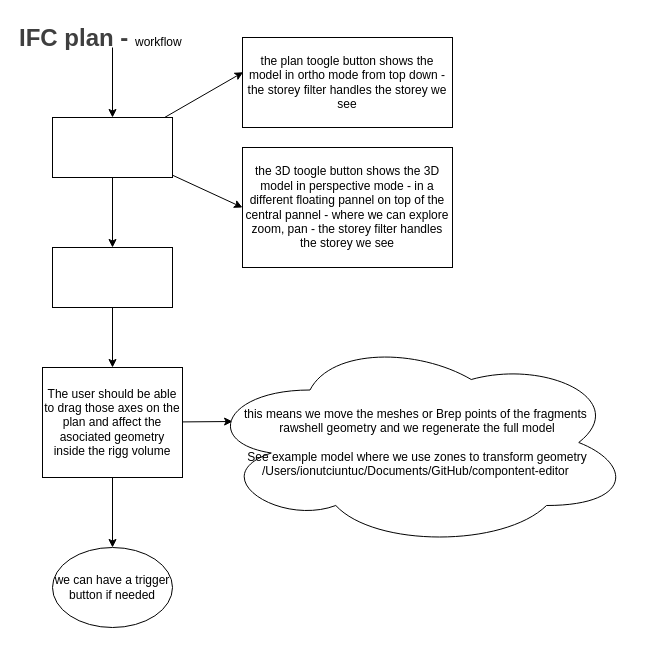
Image size: 650x645. Some labels were removed from this diagram. The shapes that lost their labels are listed below. From the top down, each one's centre as x and y in pixels, then its label:
At [112,147]: "load ifc and autorigg".
At [112,277]: "we get all the rigg axis at the lowest level".
